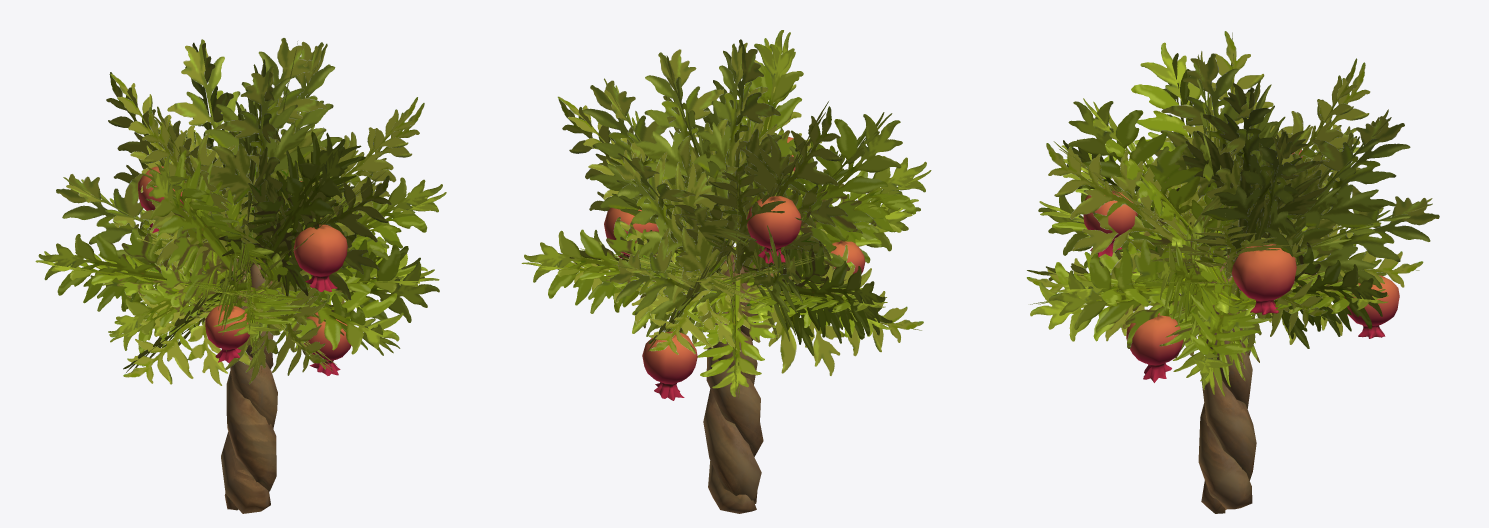
File: Granet_Step03.fbx
3 renders of one model, left to right at view 1: azimuth 30°, elevation 25°; view 2: azimuth 150°, elevation 25°; view 3: azimuth 270°, elevation 25°, orthographic.
Parts seen in each view (by area): view 1: Granet_Step03; view 2: Granet_Step03; view 3: Granet_Step03.
Part boxes in pixels (<box>): Granet_Step03: <box>35,38,446,513</box>; Granet_Step03: <box>521,30,931,513</box>; Granet_Step03: <box>1026,31,1439,513</box>.
Bounding box in the file's own units: 240 × 257 × 238.
